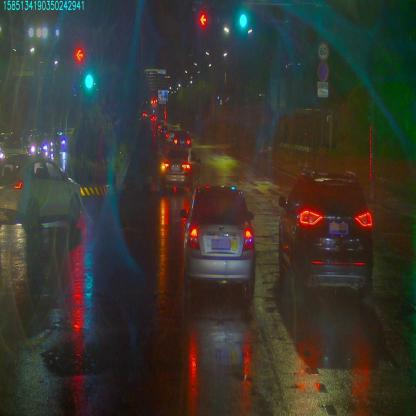traffic-light: (195, 11, 210, 28), (236, 13, 248, 29)
